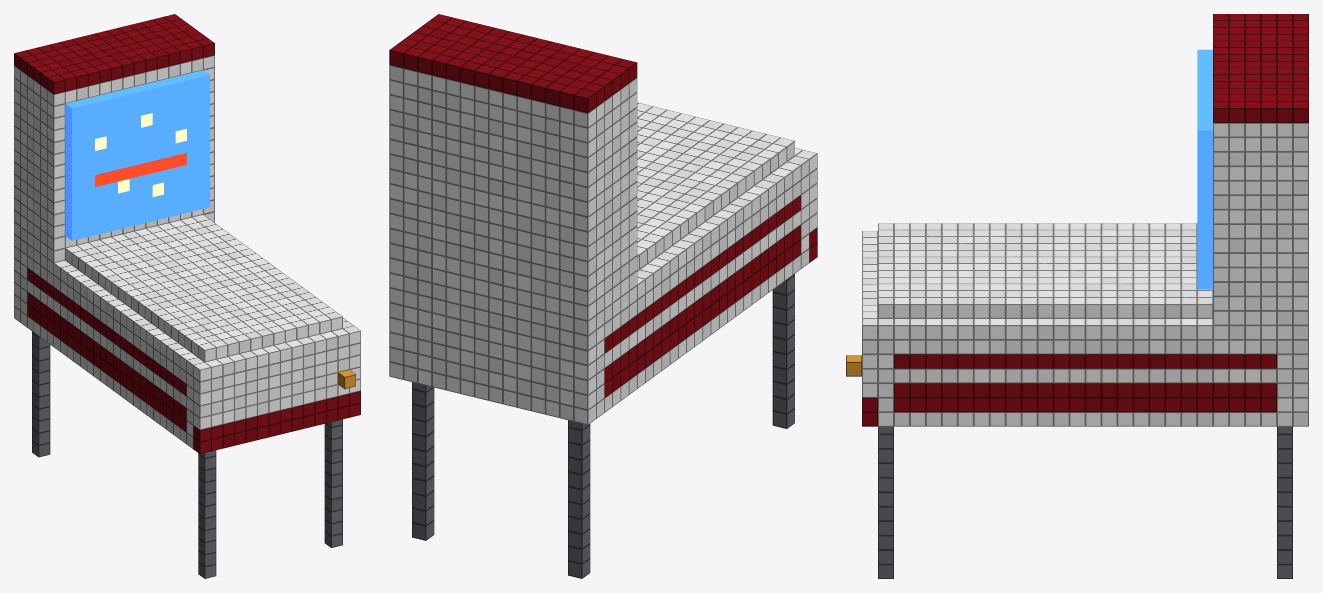
File: pinball_machine.glb
The picture shows the model from 3 angles, left to right: view 1: azimuth 30°, elevation 25°; view 2: azimuth 150°, elevation 25°; view 3: azimuth 270°, elevation 25°; orthographic projection. The views are drawn at different scales.
Visible parts, largest first — view 1: pinball_machine; view 2: pinball_machine; view 3: pinball_machine.
Boxes of the visible parts, x1=… form: pinball_machine: x1=14, y1=14, x2=360, y2=578; pinball_machine: x1=389, y1=14, x2=817, y2=578; pinball_machine: x1=846, y1=14, x2=1308, y2=578.
Size of the model in its own units: 0.7 by 1.65 by 1.45.
Materials: 8 (5 with a texture image).
